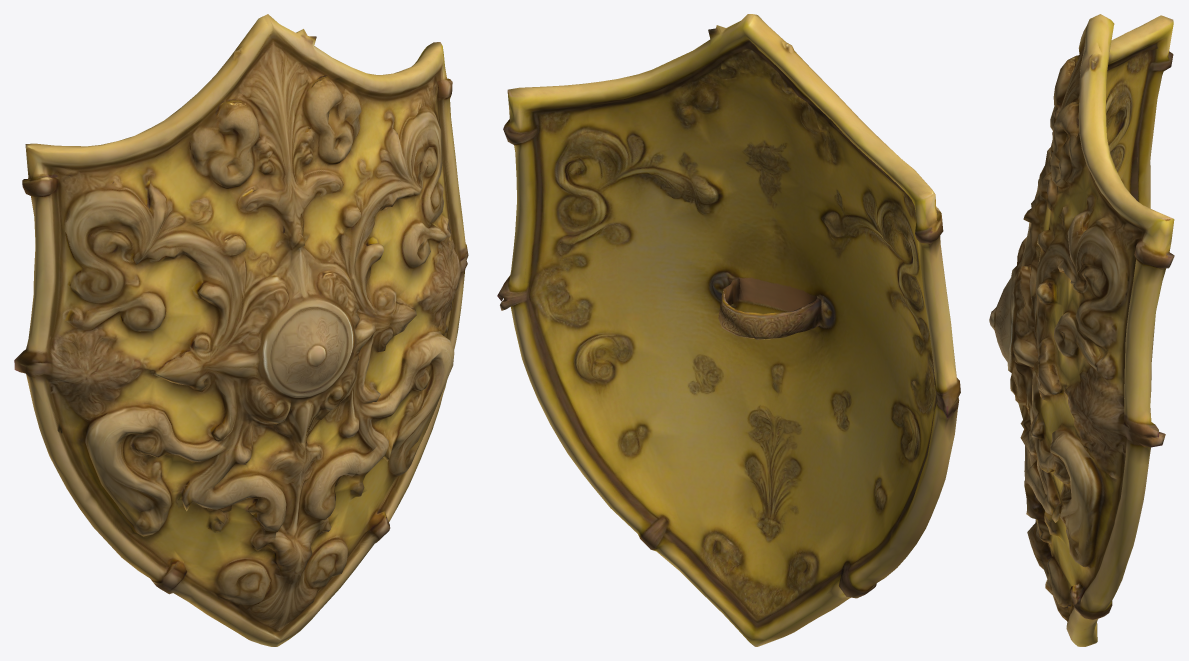
Rendered from Meshy_AI_haceme_un_escudo_hech_1007162853_texture.fbx.
The picture shows the model from 3 angles, left to right: view 1: azimuth 30°, elevation 25°; view 2: azimuth 150°, elevation 25°; view 3: azimuth 270°, elevation 25°; orthographic projection.
Parts seen in each view (by area): view 1: Mesh_0; view 2: Mesh_0; view 3: Mesh_0.
Part boxes in pixels (<box>): Mesh_0: <box>14,14,468,646</box>; Mesh_0: <box>497,14,960,646</box>; Mesh_0: <box>989,14,1174,646</box>.
Bounding box in the file's own units: 149 × 200 × 53.28.
Materials: 1 (1 with a texture image).
